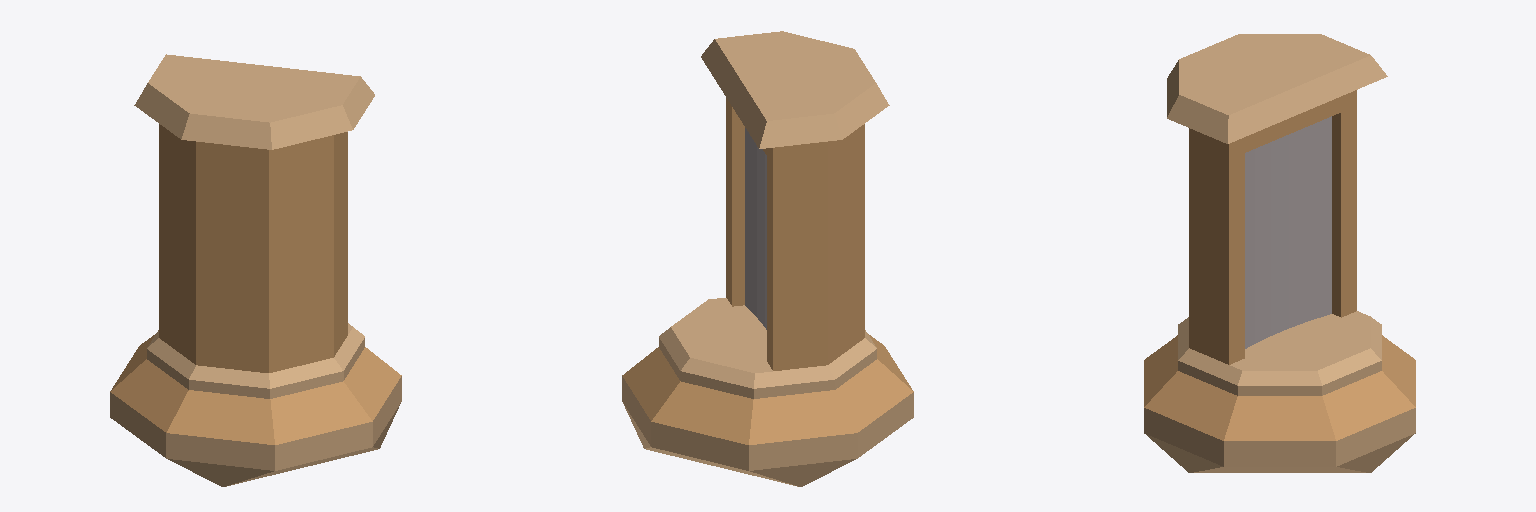
Rendered from Puzzle_Sliding_Mirror.obj.
The picture shows the model from 3 angles: view 1: azimuth 30°, elevation 25°; view 2: azimuth 150°, elevation 25°; view 3: azimuth 270°, elevation 25°; orthographic projection.
Visible parts, largest first — view 1: object1; view 2: object1; view 3: object1.
Boxes of the visible parts, <box> form: object1: <box>110,54,401,486</box>; object1: <box>622,31,913,486</box>; object1: <box>1144,34,1415,472</box>.
Size of the model in its own units: 0.6 by 0.872 by 0.6.